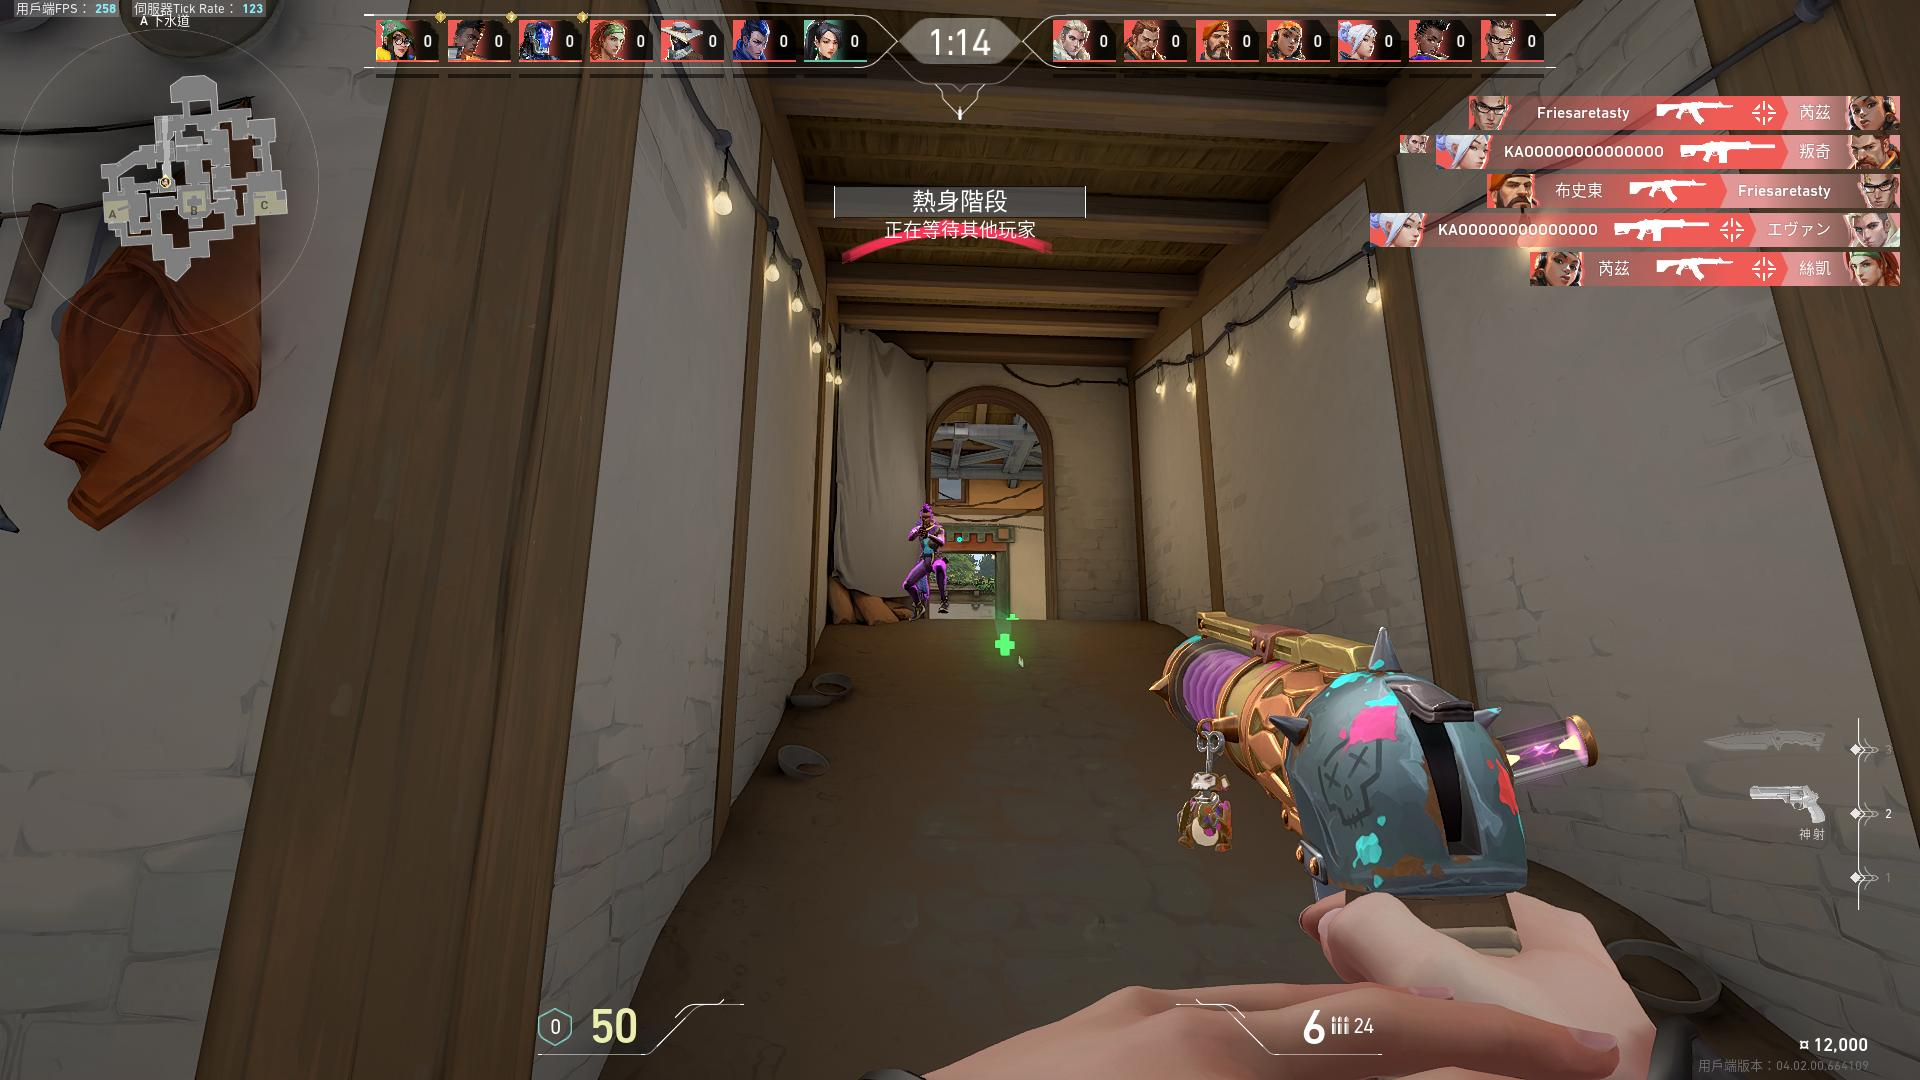enemyBody: (920, 527, 935, 554)
enemyHead: (920, 512, 932, 524)
